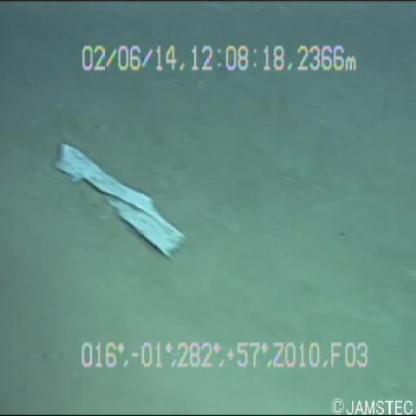Rác: (39, 119, 201, 272)
